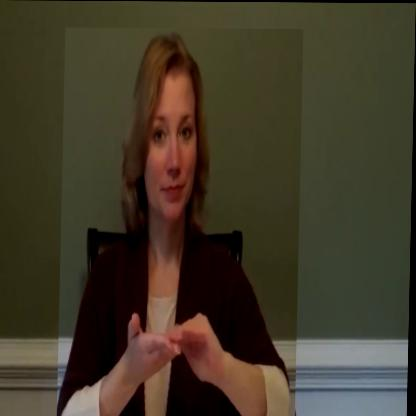ExcuseMe: (59, 27, 304, 416)
